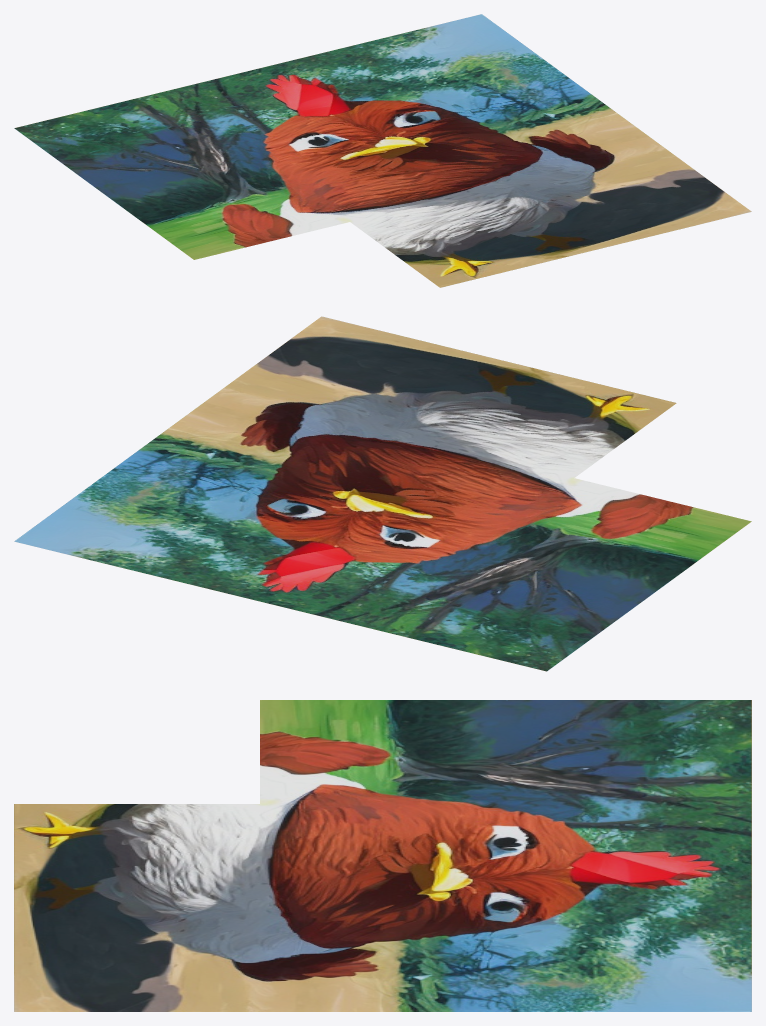
The model's file is PuzzleTiles.fbx.
3 renders of one model, top to bottom at view 1: azimuth 30°, elevation 25°; view 2: azimuth 150°, elevation 25°; view 3: azimuth 270°, elevation 25°, orthographic. The views are drawn at different scales.
Visible parts, largest first — view 1: Puzzle.001, Puzzle.003, Puzzle.007, Puzzle.005, Puzzle.006, Puzzle.004, Puzzle.008, Puzzle.002; view 2: Puzzle.006, Puzzle.001, Puzzle.003, Puzzle.008, Puzzle.002, Puzzle.007, Puzzle.004, Puzzle.005; view 3: Puzzle.001, Puzzle.002, Puzzle.003, Puzzle.004, Puzzle.005, Puzzle.006, Puzzle.007, Puzzle.008.
Part boxes in pixels (x1,y1,x2,y2): Puzzle.001: [14, 90, 259, 193]; Puzzle.003: [326, 14, 571, 117]; Puzzle.007: [350, 184, 595, 287]; Puzzle.005: [260, 118, 505, 221]; Puzzle.006: [416, 80, 661, 183]; Puzzle.004: [104, 156, 349, 259]; Puzzle.008: [506, 146, 751, 249]; Puzzle.002: [170, 52, 415, 155]; Puzzle.006: [117, 391, 396, 509]; Puzzle.001: [369, 553, 648, 671]; Puzzle.003: [14, 466, 293, 584]; Puzzle.008: [219, 316, 498, 434]; Puzzle.002: [192, 510, 471, 627]; Puzzle.007: [397, 359, 676, 477]; Puzzle.004: [472, 478, 751, 596]; Puzzle.005: [294, 435, 573, 552]; Puzzle.001: [506, 700, 751, 803]; Puzzle.002: [506, 804, 751, 907]; Puzzle.003: [506, 908, 751, 1011]; Puzzle.004: [260, 700, 505, 803]; Puzzle.005: [260, 804, 505, 907]; Puzzle.006: [260, 908, 505, 1011]; Puzzle.007: [14, 804, 259, 907]; Puzzle.008: [14, 908, 259, 1011].
Size of the model in its own units: 3 by 0 by 3.
